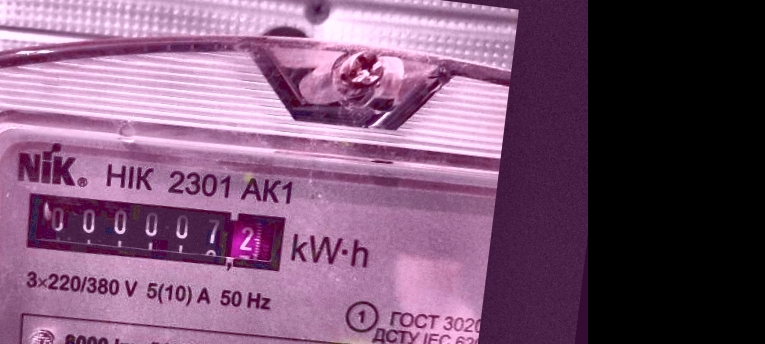0: (47, 203, 67, 232), (110, 206, 129, 236), (172, 211, 191, 241), (141, 209, 161, 237), (79, 205, 98, 234)
2: (236, 224, 256, 252)
7: (203, 214, 222, 246)
screen: (11, 178, 298, 284)
